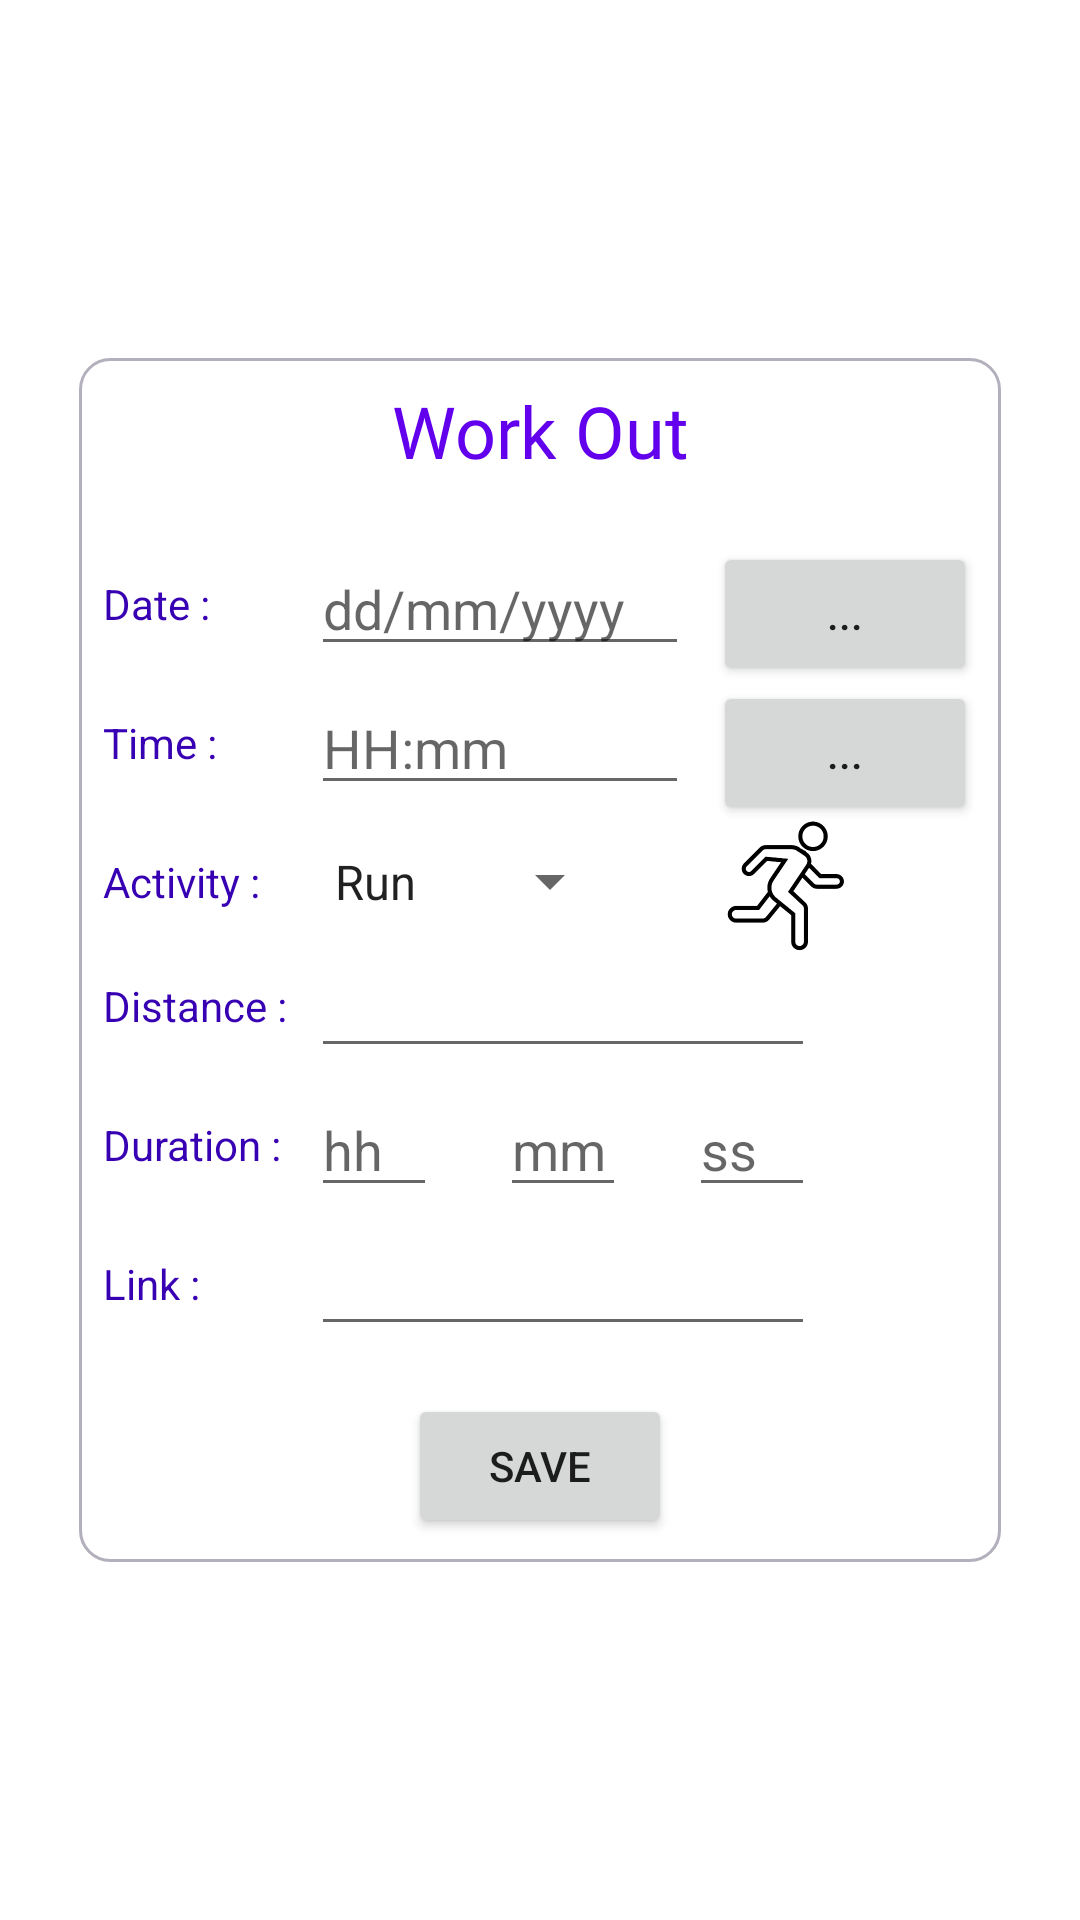

Point at icon controls on the screen. Image size 1080×1920, points as (x,y).
run: (785,885)
